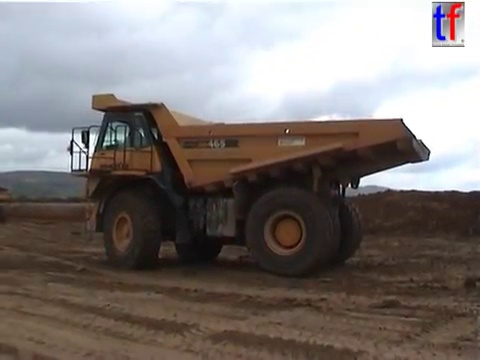truck: (63, 91, 432, 278), (1, 183, 10, 205)
